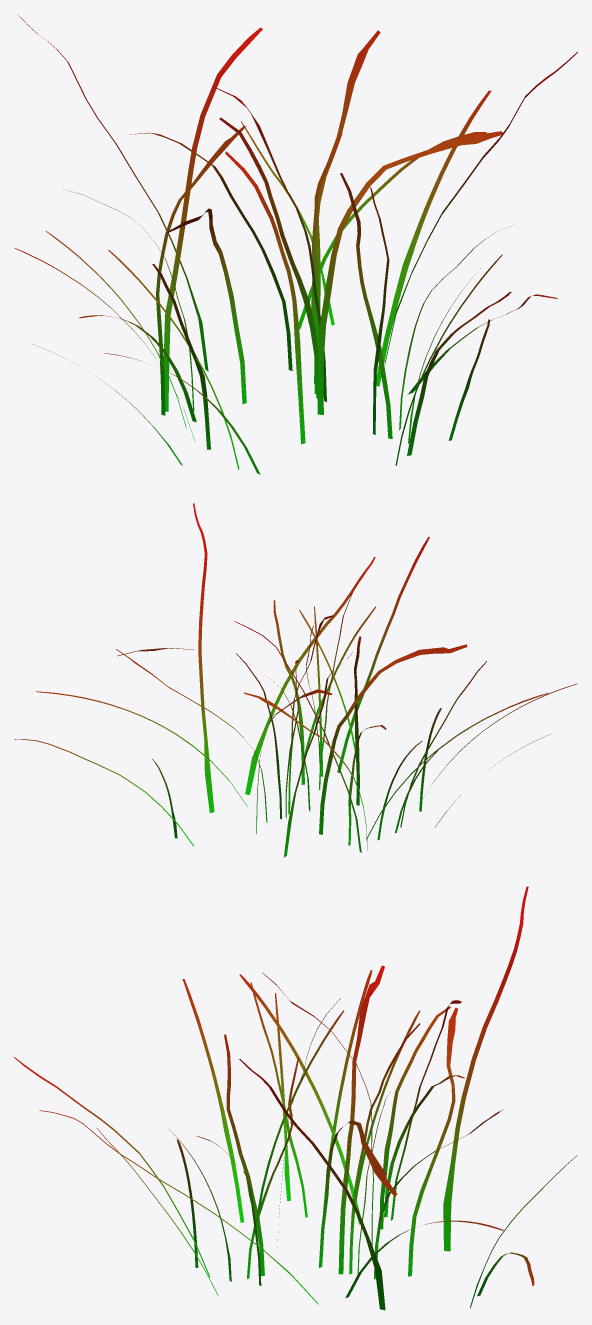
The model's file is Cotton Grass_LOD2_Var6_wlykecdia.fbx.
The picture shows the model from 3 angles, top to bottom: view 1: azimuth 30°, elevation 25°; view 2: azimuth 150°, elevation 25°; view 3: azimuth 270°, elevation 25°; orthographic projection. The views are drawn at different scales.
Visible parts, largest first — view 1: _os6u_Var6_LOD2; view 2: _os6u_Var6_LOD2; view 3: _os6u_Var6_LOD2.
Boxes of the visible parts, box(x1,y1,x2,y2) form: _os6u_Var6_LOD2: box(14, 15, 577, 474); _os6u_Var6_LOD2: box(14, 503, 577, 857); _os6u_Var6_LOD2: box(14, 886, 577, 1310).
Bounding box in the file's own units: 25.41 × 14.3 × 23.94.
